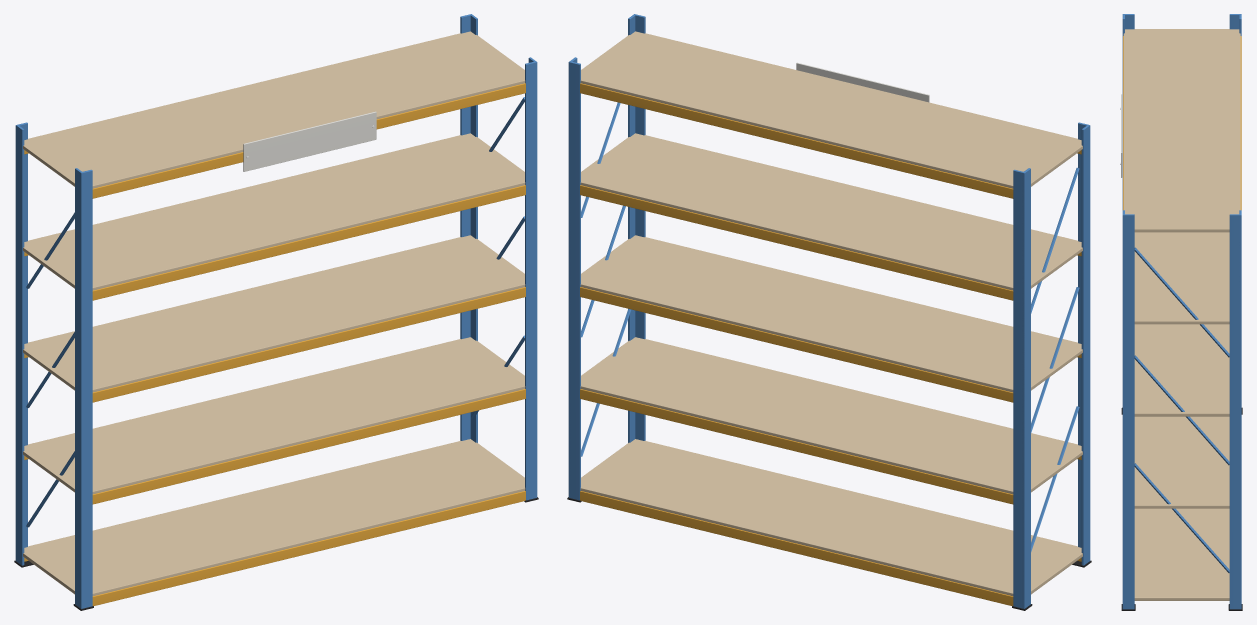
File: shelf_racking.glb
3 views of the same model, side by side, from view 1: azimuth 30°, elevation 25°; view 2: azimuth 150°, elevation 25°; view 3: azimuth 270°, elevation 25° (orthographic). The views are drawn at different scales.
Parts seen in each view (by area): view 1: SM_shelf_racking; view 2: SM_shelf_racking; view 3: SM_shelf_racking.
Boxes of the visible parts, bbox=[...] form: SM_shelf_racking: bbox=[14, 14, 538, 610]; SM_shelf_racking: bbox=[567, 14, 1091, 610]; SM_shelf_racking: bbox=[1120, 14, 1242, 610].
Bounding box in the file's own units: 2.41 × 2.2 × 0.617.
